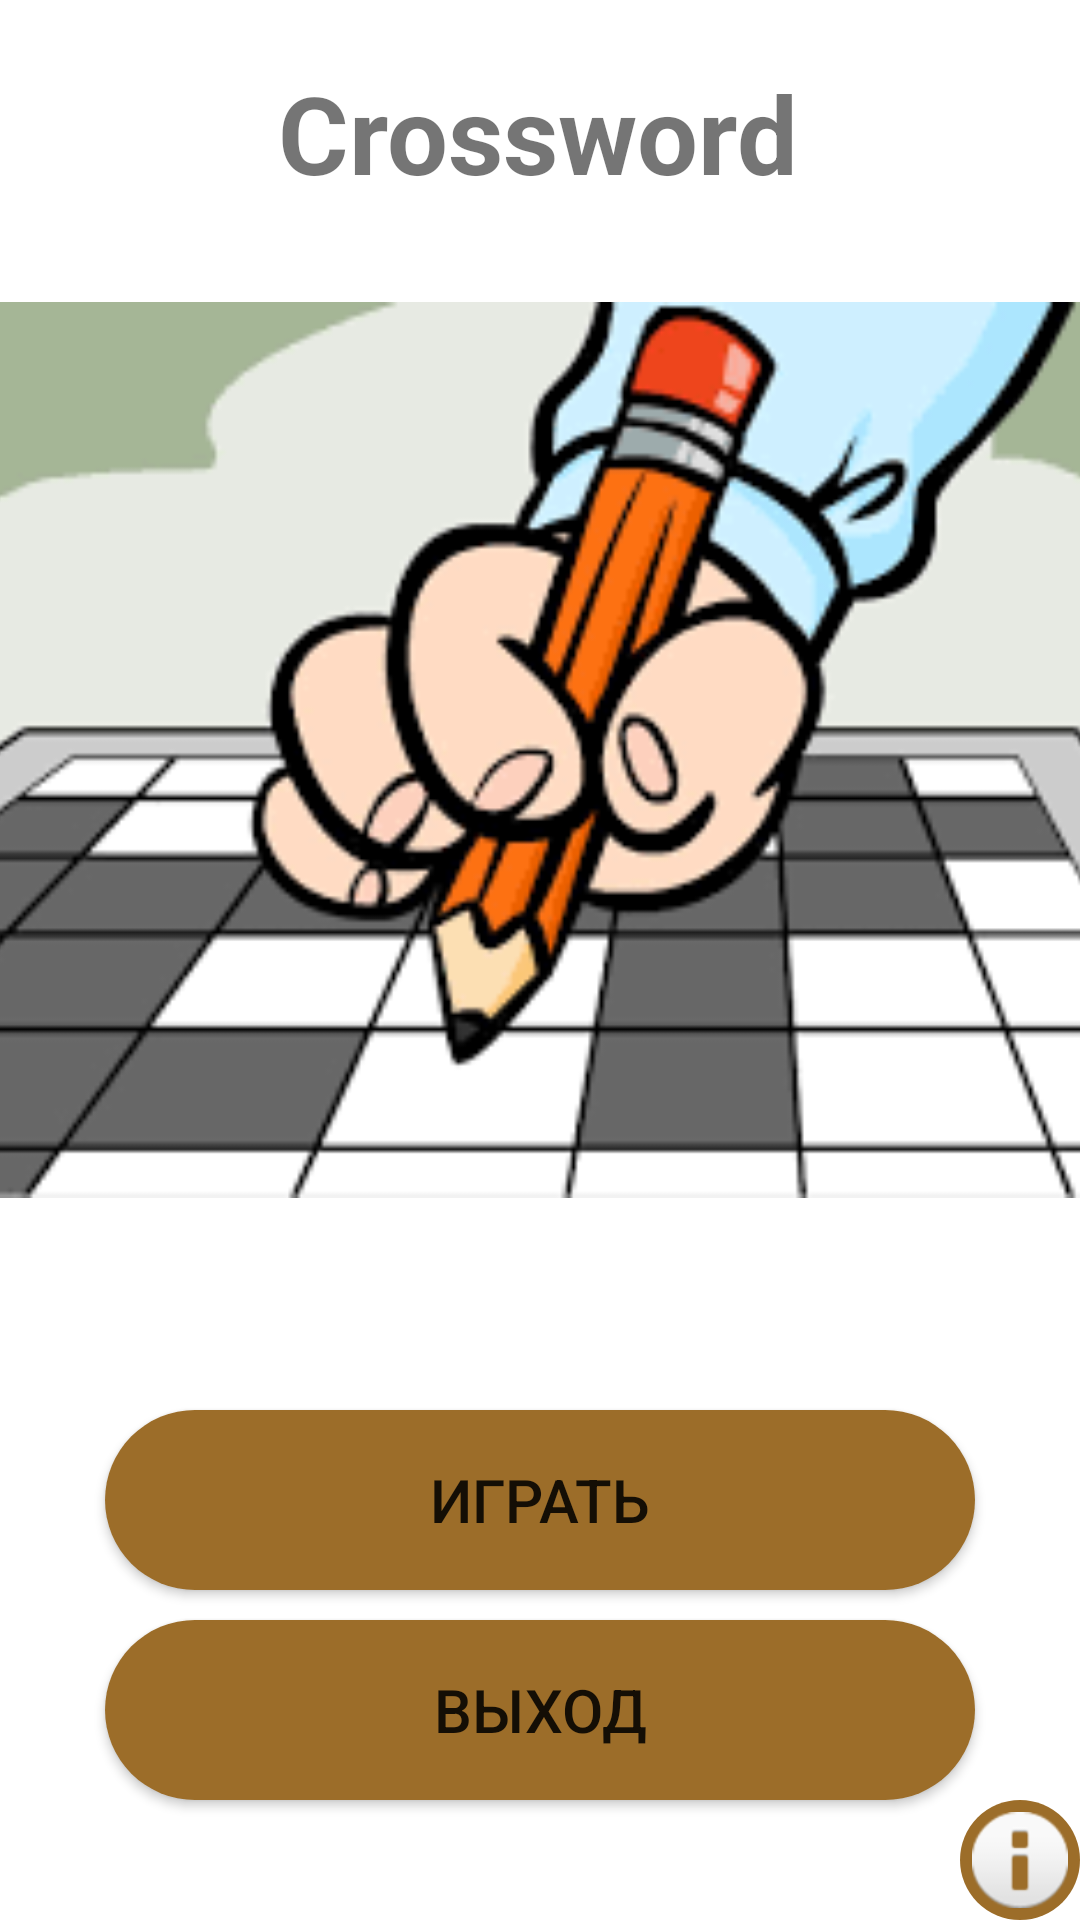

Icon bounding boxes for this 1080×1920 phone screenshot, format bbox=[x1, y1, x2, y2]:
info: bbox=[960, 1800, 1080, 1920]
